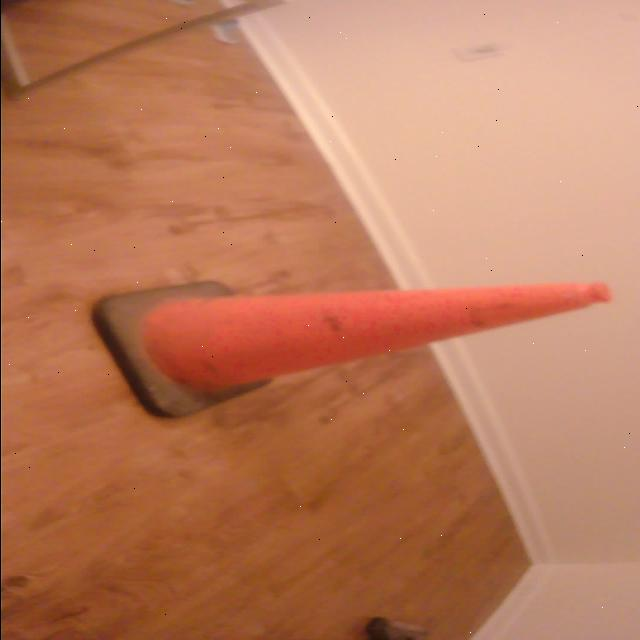traffic cone: (90, 278, 617, 424)
